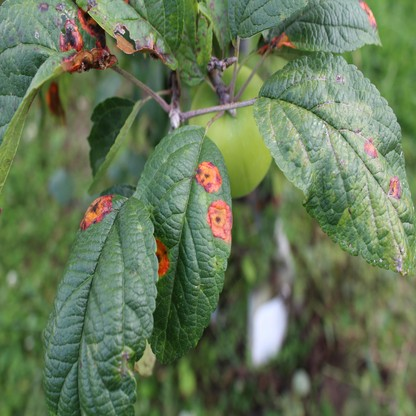rust: (39, 2, 115, 71), (81, 195, 115, 227), (208, 199, 232, 243), (196, 160, 221, 192), (260, 32, 296, 53), (47, 83, 64, 118), (357, 1, 377, 30), (154, 238, 168, 277), (149, 36, 163, 60), (364, 138, 378, 159), (388, 176, 400, 199)
scab: (256, 68, 416, 275), (212, 257, 224, 273)
